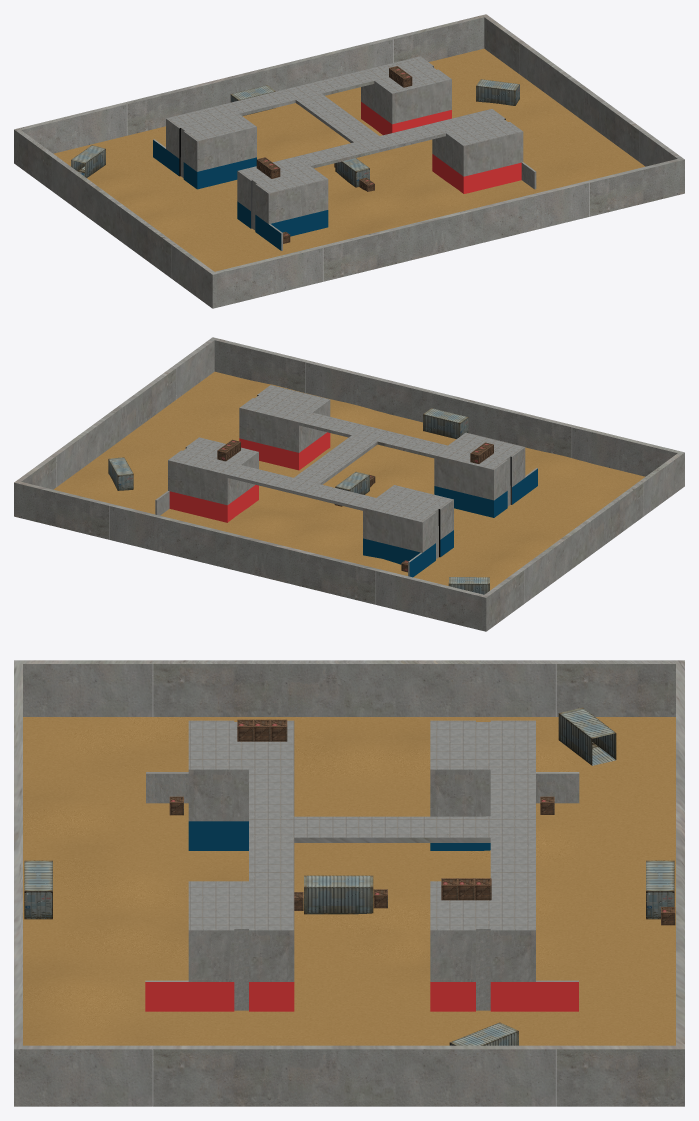
Rendered from desert.glb.
3 views of the same model, one above another, from view 1: azimuth 30°, elevation 25°; view 2: azimuth 150°, elevation 25°; view 3: azimuth 270°, elevation 25° (orthographic). The views are drawn at different scales.
Parts seen in each view (by area): view 1: Cube.005_2, Plane_1, Cube.001_0, Box001.003_6, Box001.004_7, Box001.001_4; view 2: Cube.005_2, Plane_1, Cube.001_0, Box001_3, Box001.003_6, Box001.004_7, Box001.001_4; view 3: Plane_1, Cube.005_2, Cube.001_0, Box001.001_4, Box001.004_7, Box001_3, Box001.002_5, Box001.003_6.
Boxes of the visible parts, bbox=[...] form: Cube.005_2: bbox=[14, 14, 684, 308]; Plane_1: bbox=[53, 48, 644, 271]; Cube.001_0: bbox=[153, 56, 536, 250]; Box001.003_6: bbox=[476, 79, 519, 105]; Box001.004_7: bbox=[71, 145, 105, 177]; Box001.001_4: bbox=[335, 158, 369, 187]; Cube.005_2: bbox=[14, 337, 684, 631]; Plane_1: bbox=[54, 371, 645, 590]; Cube.001_0: bbox=[155, 385, 537, 577]; Box001_3: bbox=[423, 408, 468, 438]; Box001.003_6: bbox=[108, 457, 133, 490]; Box001.004_7: bbox=[448, 577, 489, 594]; Box001.001_4: bbox=[335, 471, 369, 494]; Plane_1: bbox=[23, 717, 675, 1045]; Cube.005_2: bbox=[14, 660, 684, 1106]; Cube.001_0: bbox=[145, 720, 579, 1011]; Box001.001_4: bbox=[304, 875, 373, 914]; Box001.004_7: bbox=[558, 707, 616, 765]; Box001_3: bbox=[24, 860, 52, 919]; Box001.002_5: bbox=[646, 860, 674, 919]; Box001.003_6: bbox=[449, 1022, 518, 1045].
Bounding box in the file's own units: 29.11 × 3.52 × 21.21.
Materials: 9 (5 with a texture image).
